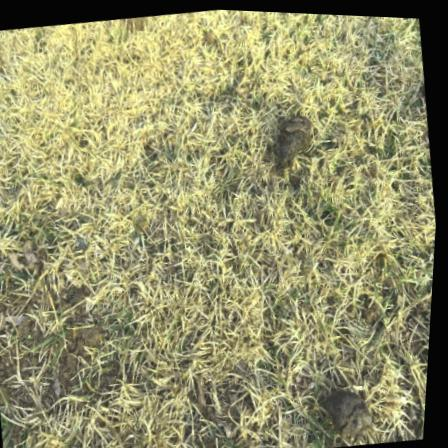dog-poop: (261, 104, 329, 169), (325, 377, 389, 442)
